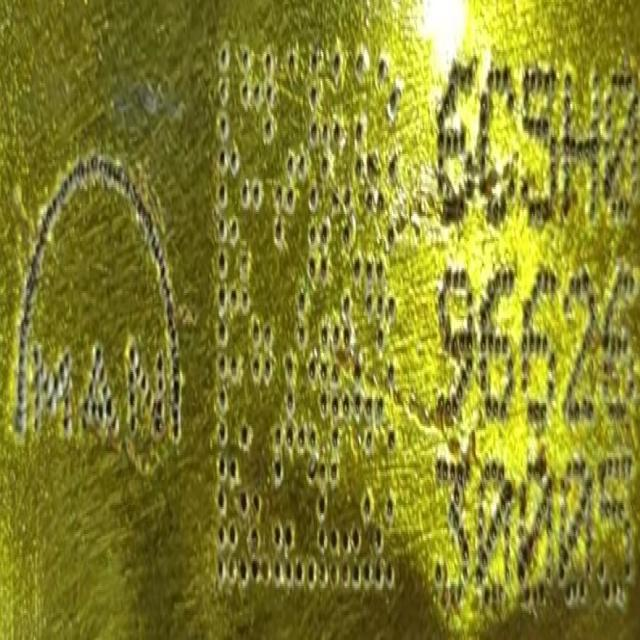dmc: (218, 48, 398, 583)
